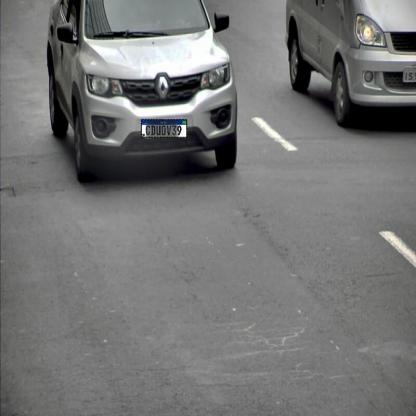PlacaM: (141, 119, 187, 138)
